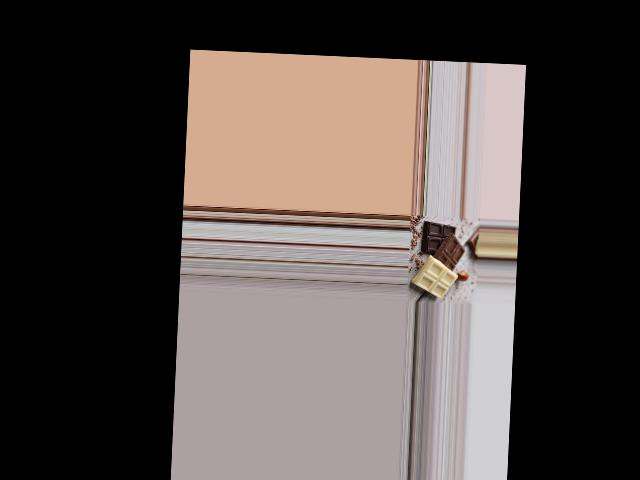chocolate: (415, 217, 466, 299)
